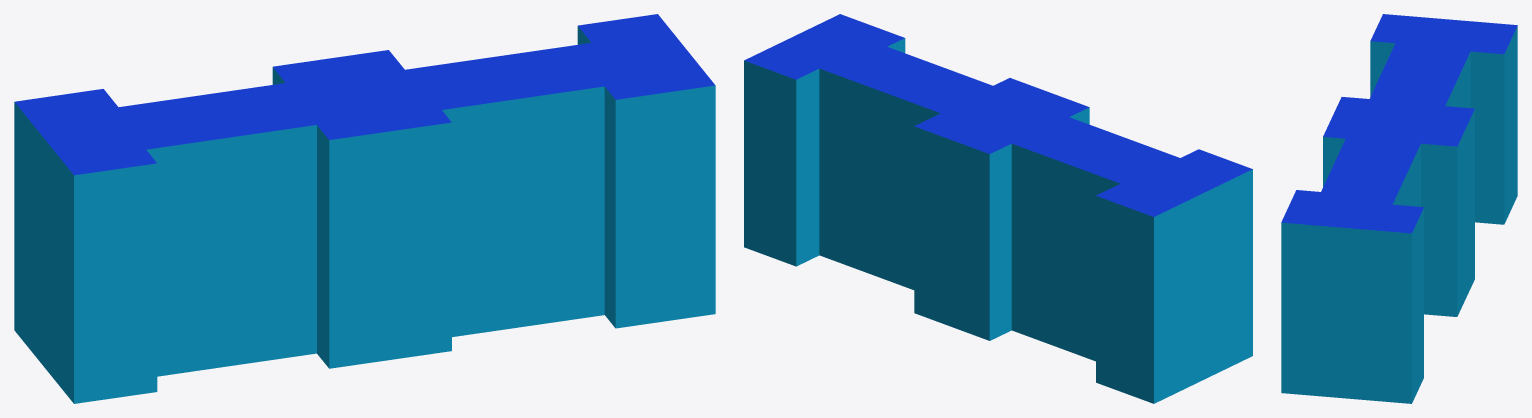
The model's file is map_21.osm_buildings.005.gltf.
3 views of the same model, side by side, from view 1: azimuth 30°, elevation 25°; view 2: azimuth 150°, elevation 25°; view 3: azimuth 270°, elevation 25° (orthographic). The views are drawn at different scales.
Visible parts, largest first — view 1: map_21.osm_buildings.005; view 2: map_21.osm_buildings.005; view 3: map_21.osm_buildings.005.
Part boxes in pixels (left/top/right/bottom): map_21.osm_buildings.005: left=14, top=14, right=715, bottom=403; map_21.osm_buildings.005: left=744, top=14, right=1252, bottom=403; map_21.osm_buildings.005: left=1281, top=14, right=1517, bottom=403.
Size of the model in its own units: 47.24 by 17.11 by 21.52.
